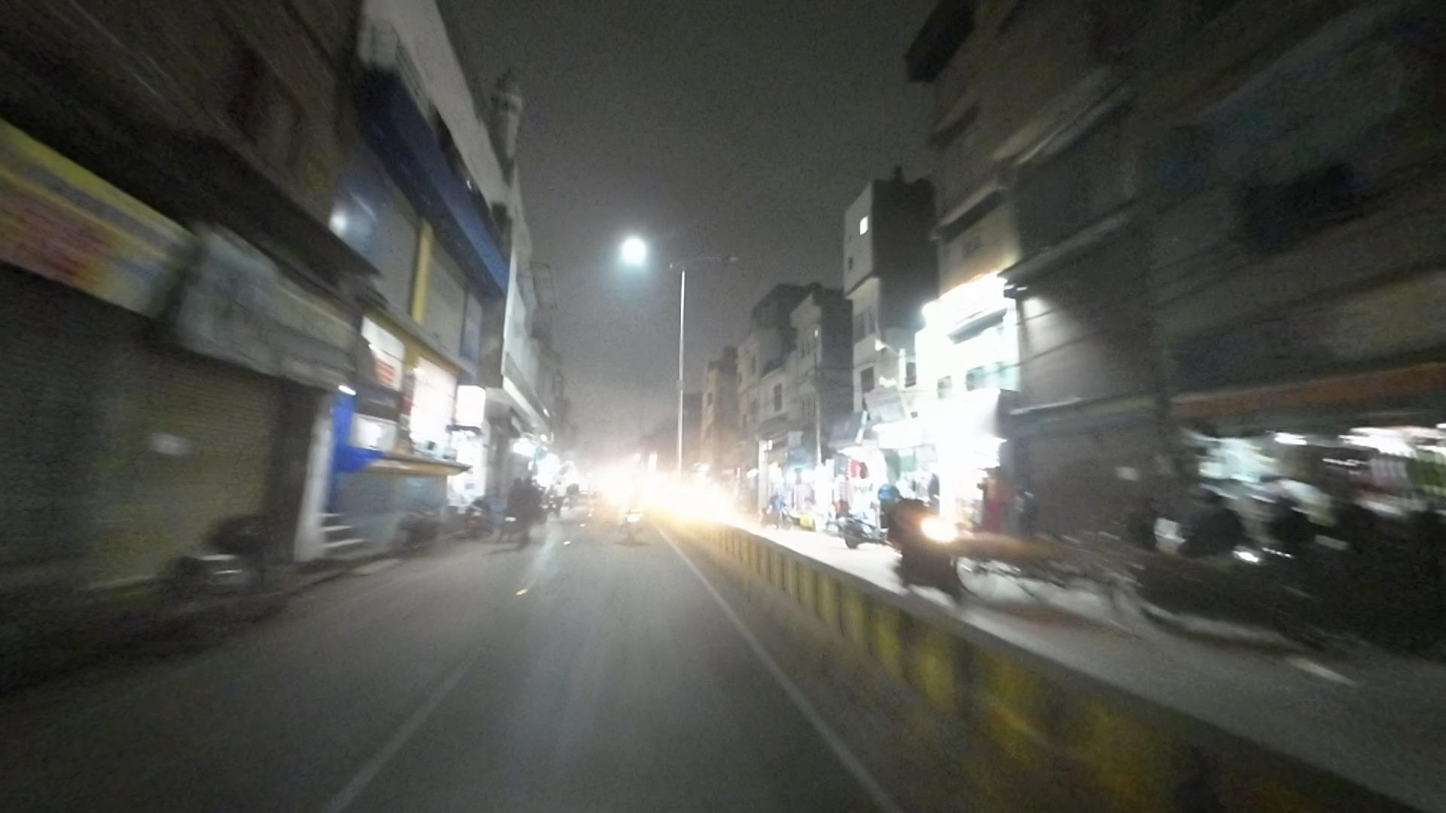streetlight: (691, 252, 742, 267)
